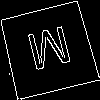M: (24, 25, 77, 80)
